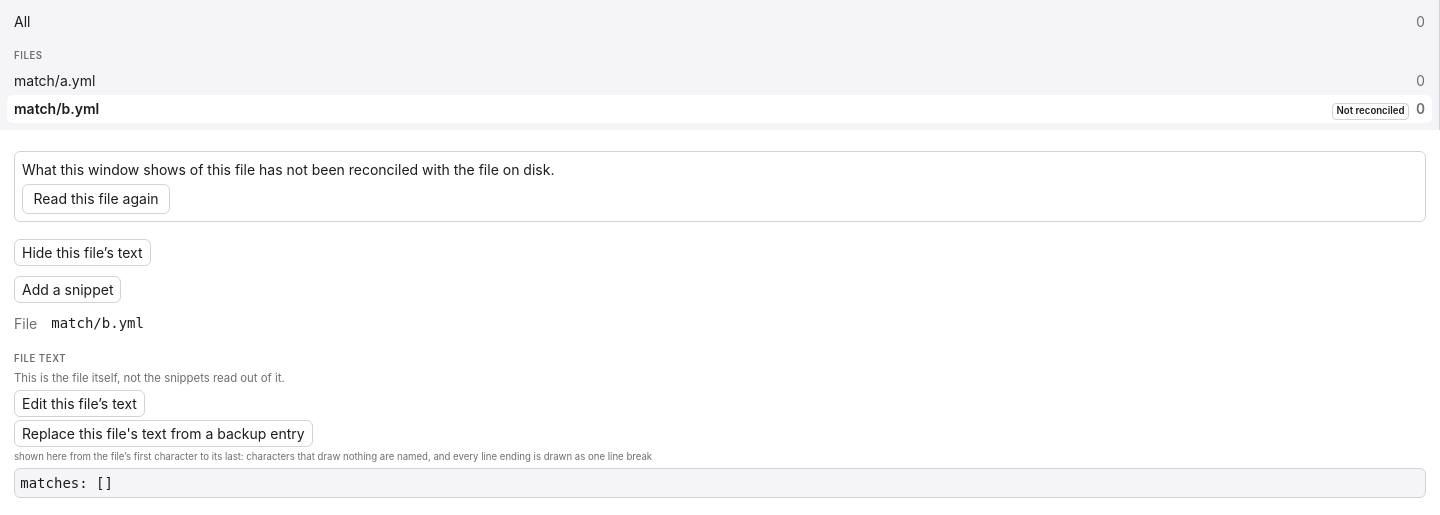
Scenario: the per-file states and their three controls, in en › marks a file stale after a refused save, and the reread clears the row and the header
Click the button "Read this file again" at (96, 199), box x1=22 y1=184 x2=170 y2=214
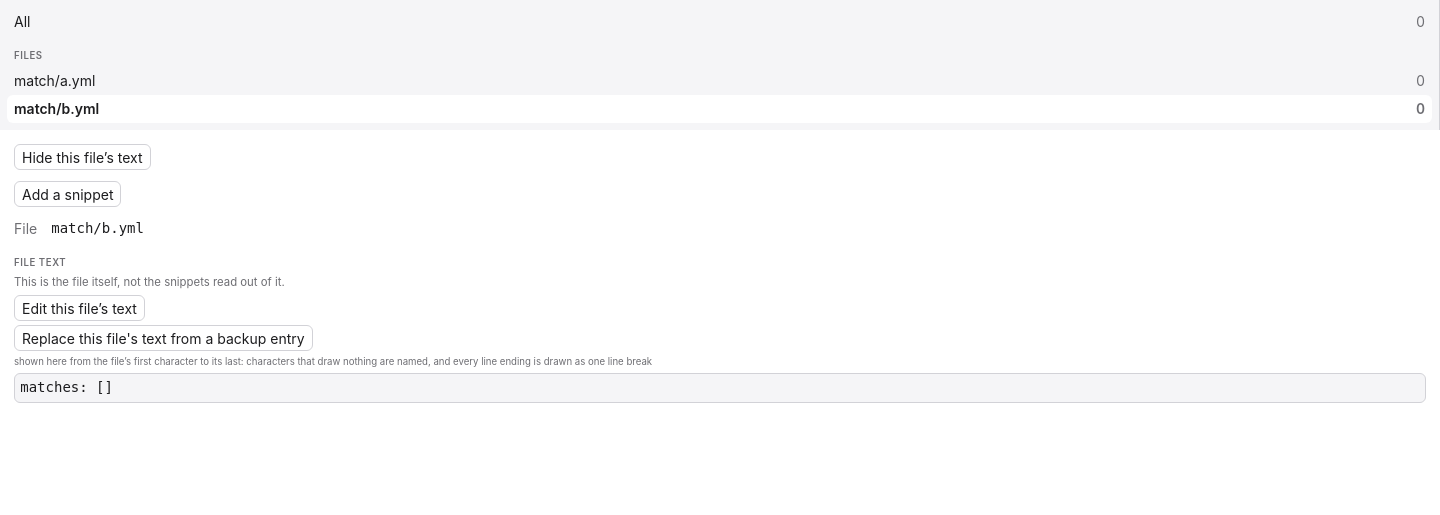
Check: the text "Not reconciled" is gone
Check: the text "What this window shows of this file has not been reconciled with the file on disk." is gone
